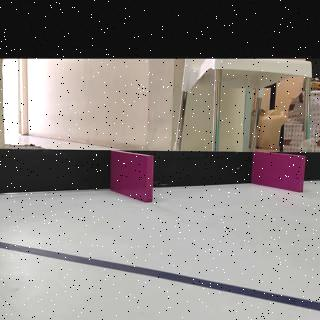xparking: (115, 154, 151, 202), (258, 154, 304, 190)
